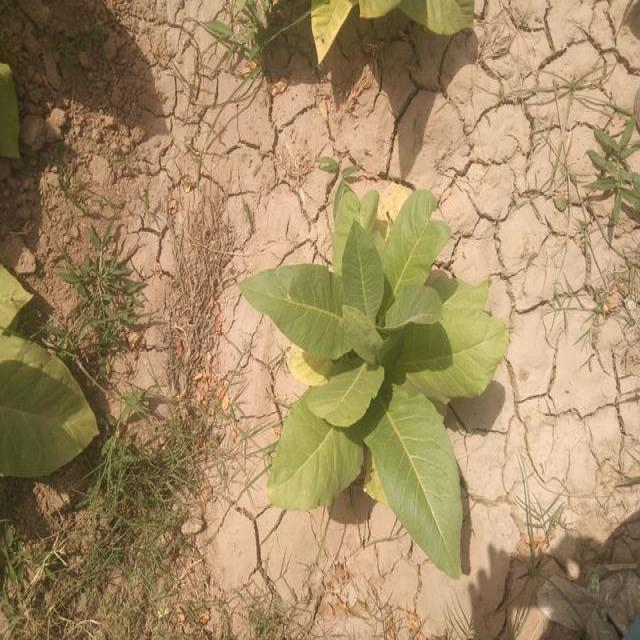crop: (247, 179, 502, 564), (0, 254, 97, 480), (308, 0, 479, 53)
